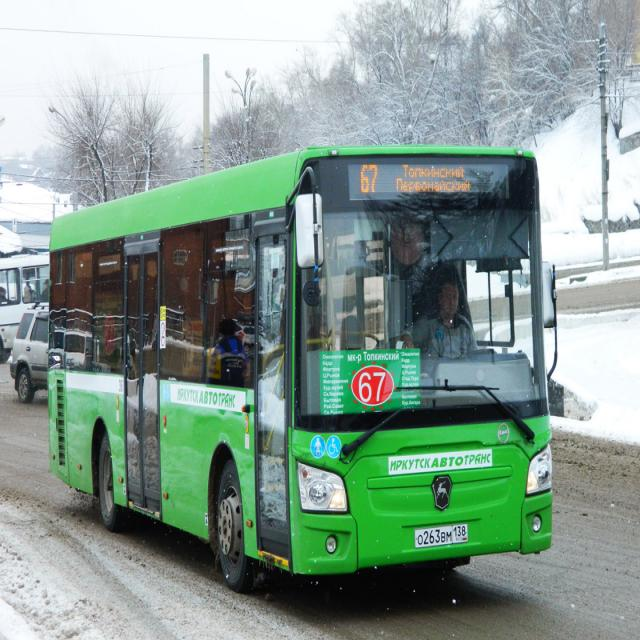number-of-bus: (355, 369, 390, 404), (360, 164, 380, 195)
